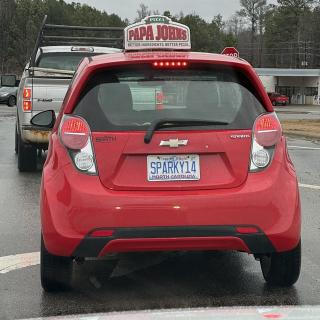license: (148, 155, 202, 182)
